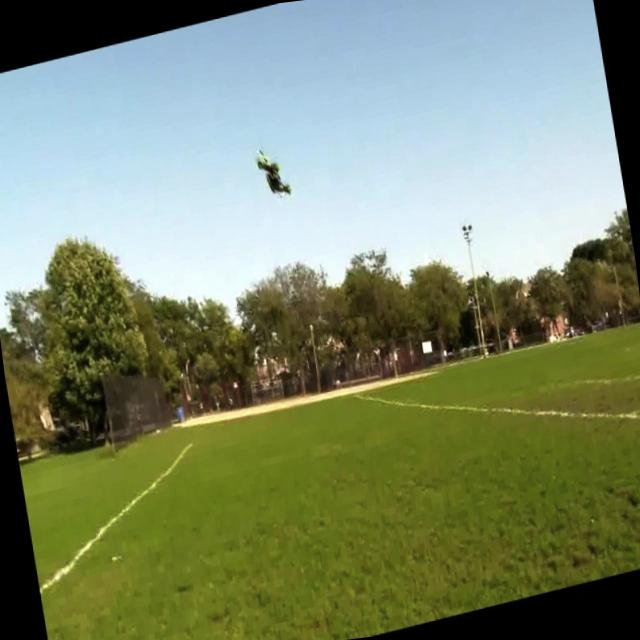drone: (246, 128, 303, 210)
